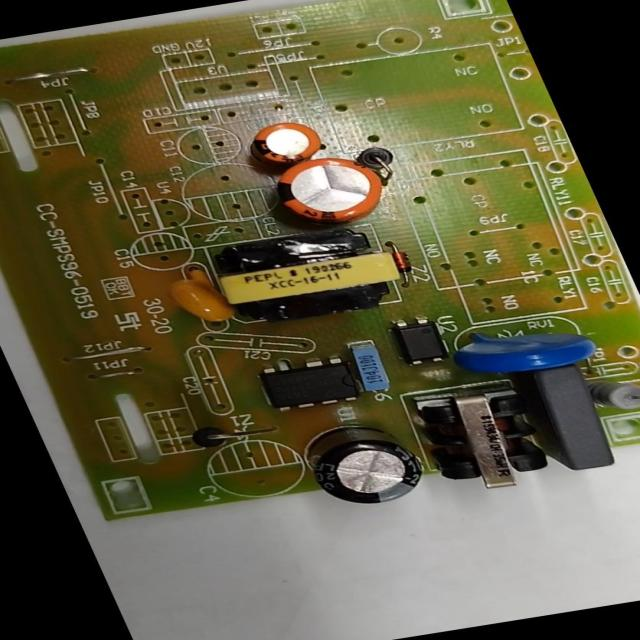Cap1: (265, 152, 395, 232)
Cap2: (247, 120, 329, 167)
Cap3: (299, 420, 437, 513)
MOSFET: (258, 354, 366, 414)
Mov: (454, 315, 609, 381)
Resistor: (585, 368, 639, 415)
Transformer: (200, 222, 411, 327), (410, 385, 561, 496)
